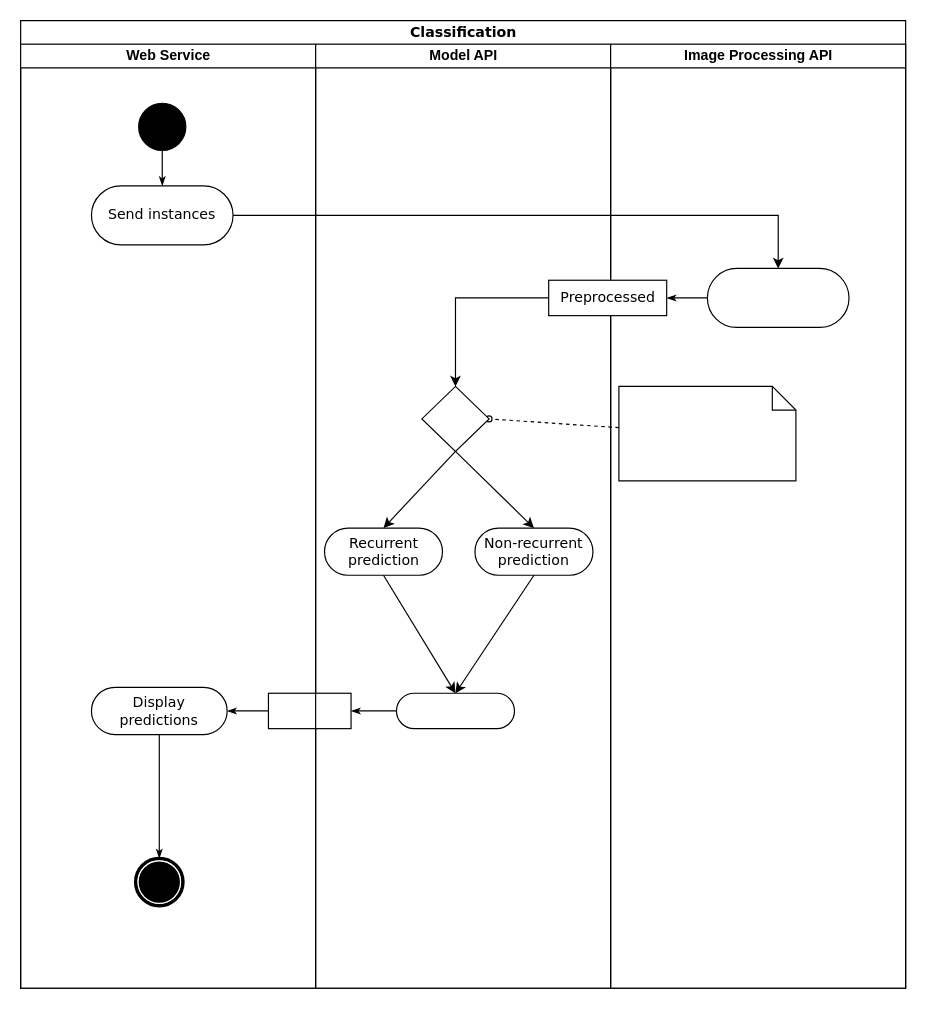
This 926x1009 diagram has some shape labels left out. Here are the shapes that lost their labels. From the top down, the centre of each, then its label:
(x=777, y=297): Preprocess instances
(x=707, y=433): Predict for single image or sequence?
(x=309, y=710): Results
(x=454, y=710): Return predictions
